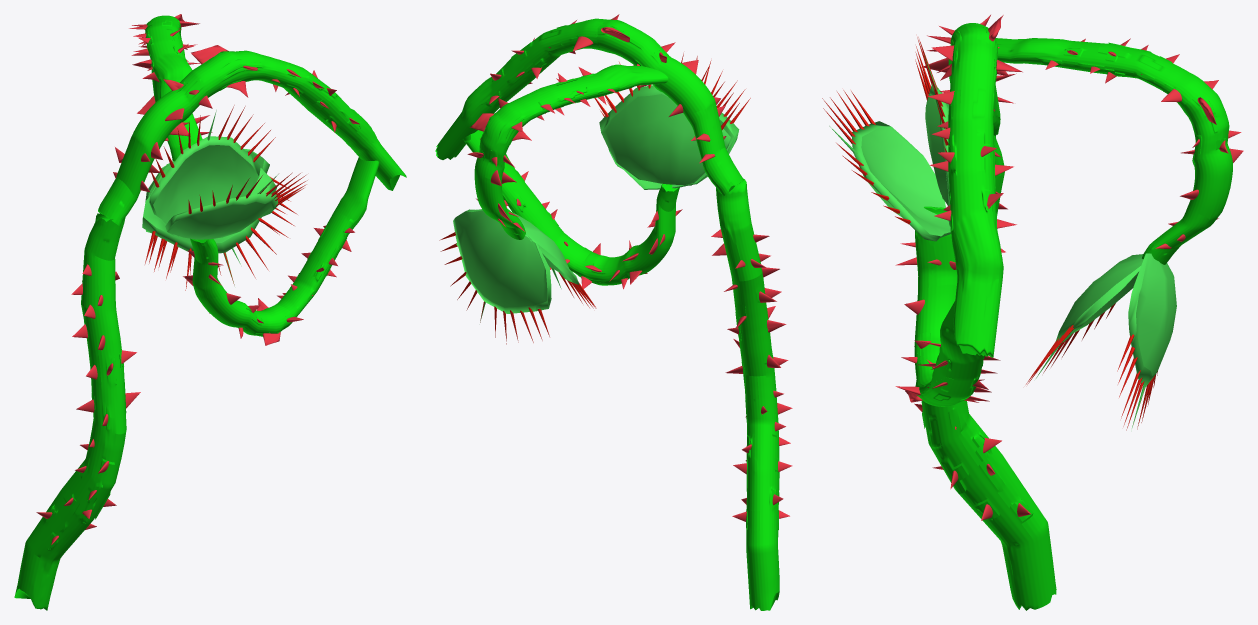
Rendered from Vine2Redo.fbx.
The picture shows the model from 3 angles, left to right: view 1: azimuth 30°, elevation 25°; view 2: azimuth 150°, elevation 25°; view 3: azimuth 270°, elevation 25°; orthographic projection. The views are drawn at different scales.
Parts seen in each view (by area): view 1: Cylinder, Cylinder.001, Cylinder.002, side2.001, Cylinder.003, side2, side2.003, side2.002; view 2: Cylinder, Cylinder.001, Cylinder.003, side2.002, side2.001, Cylinder.002, side2.003, side2; view 3: Cylinder.001, Cylinder.003, Cylinder, Cylinder.002, side2, side2.002, side2.003, side2.001.
Boxes of the visible parts, x1,y1,x2,y2 form: Cylinder: [14, 213, 140, 610]; Cylinder.001: [98, 45, 406, 225]; Cylinder.002: [183, 157, 379, 345]; side2.001: [149, 105, 275, 236]; Cylinder.003: [129, 14, 212, 161]; side2: [165, 172, 307, 239]; side2.003: [142, 162, 297, 290]; side2.002: [145, 149, 292, 275]; Cylinder: [711, 178, 792, 610]; Cylinder.001: [435, 14, 743, 195]; Cylinder.003: [467, 64, 668, 239]; side2.002: [439, 209, 551, 344]; side2.001: [594, 53, 739, 185]; Cylinder.002: [462, 130, 682, 289]; side2.003: [513, 213, 596, 308]; side2: [600, 58, 750, 189]; Cylinder.001: [924, 15, 1022, 357]; Cylinder.003: [995, 38, 1243, 264]; Cylinder: [914, 135, 1056, 610]; Cylinder.002: [895, 206, 1000, 406]; side2: [822, 90, 950, 241]; side2.002: [1117, 253, 1176, 430]; side2.003: [1026, 254, 1143, 384]; side2.001: [915, 37, 950, 226].
Bounding box in the file's own units: 848 × 1193 × 667.
